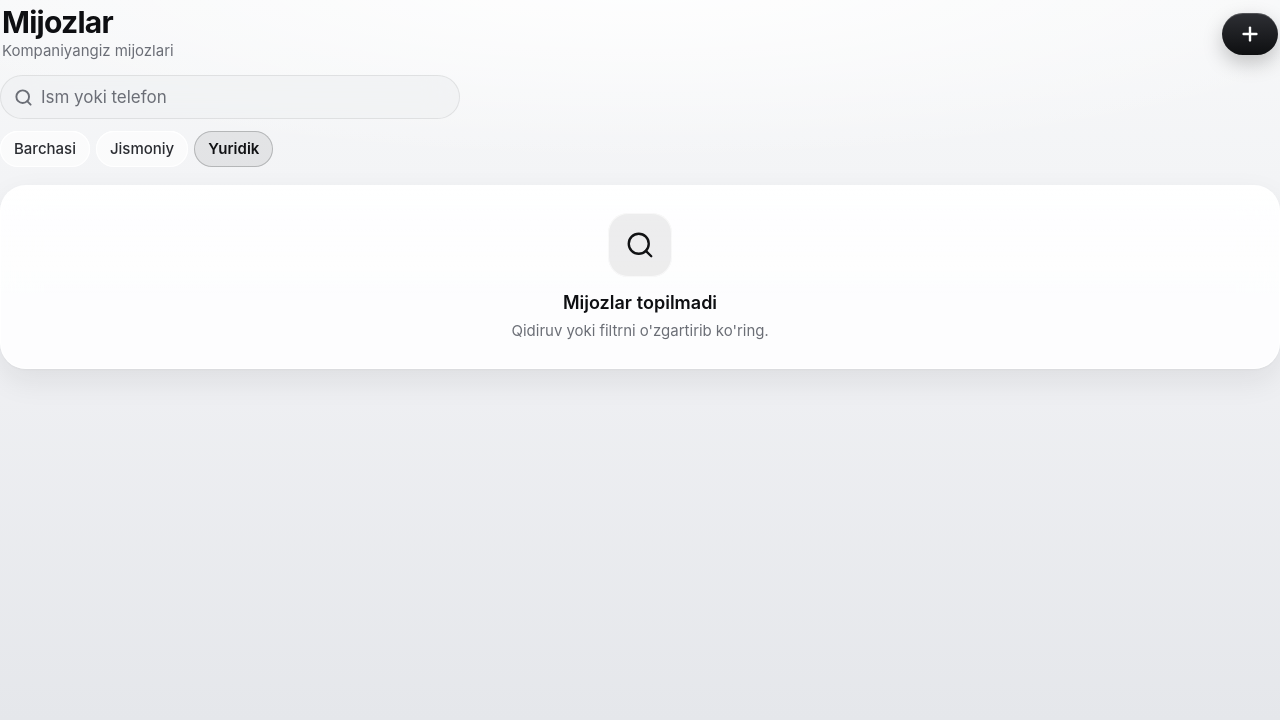
Test: under a tab the dialog opens with that tab's type
The width and height of the screenshot is (1280, 720).
Step 1. Click the button named "Mijoz qo'shish" → click(1250, 34), box x1=1222 y1=13 x2=1278 y2=55
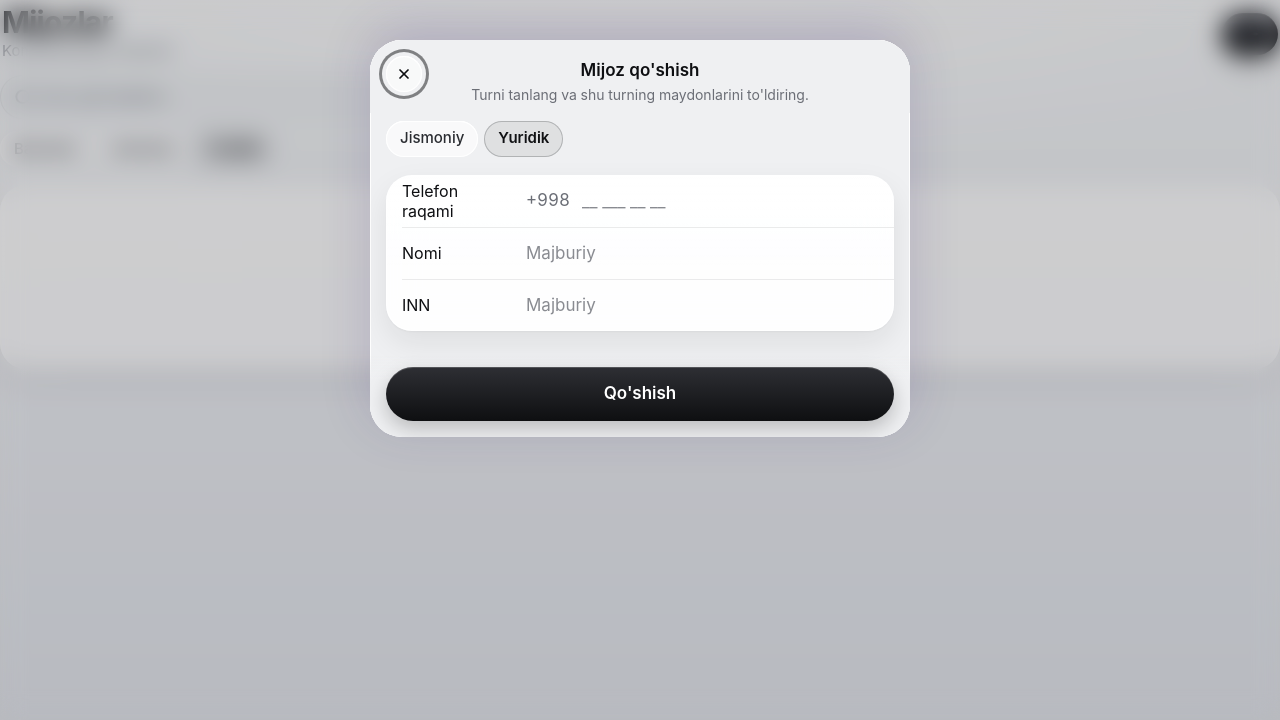
expect the field labelled "INN" is shown: met, box x1=526 y1=282 x2=878 y2=326
